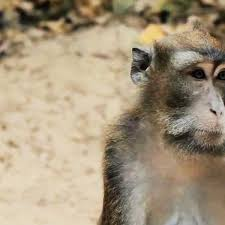monkey: (66, 23, 224, 217)
